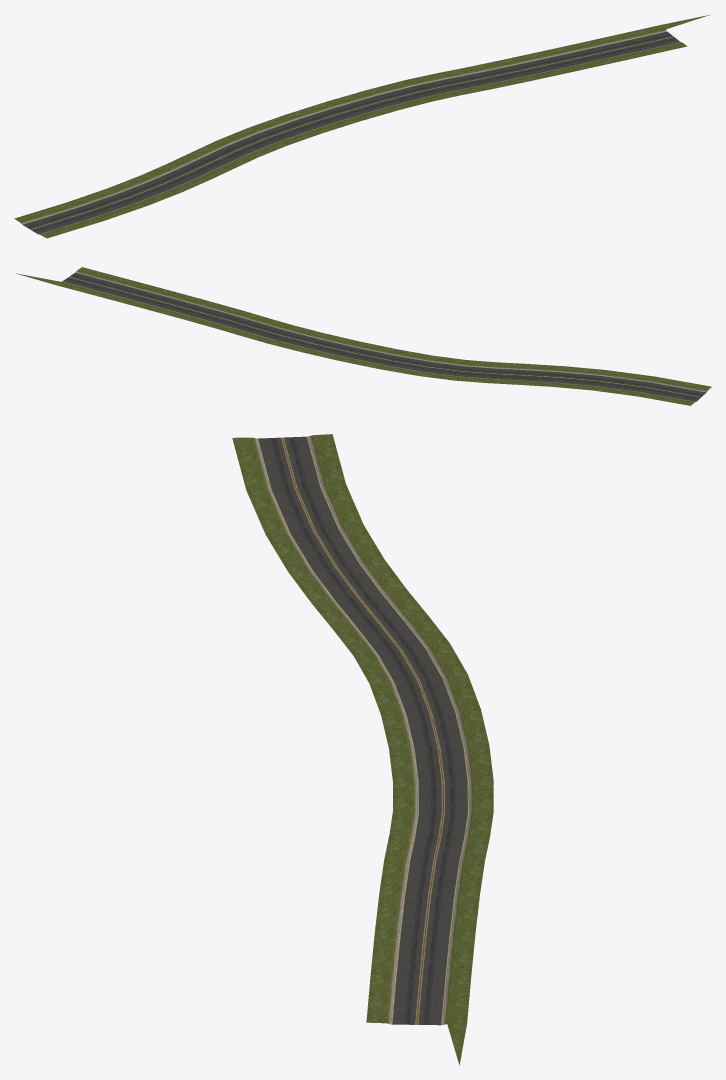
Rendered from cunte_roads32.obj.
3 views of the same model, one above another, from view 1: azimuth 30°, elevation 25°; view 2: azimuth 150°, elevation 25°; view 3: azimuth 270°, elevation 25° (orthographic). The views are drawn at different scales.
Parts seen in each view (by area): view 1: cunte_roads32; view 2: cunte_roads32; view 3: cunte_roads32.
Boxes of the visible parts, x1,y1,x2,y2 form: cunte_roads32: (14, 14, 710, 238); cunte_roads32: (16, 267, 711, 405); cunte_roads32: (232, 434, 493, 1065).
Bounding box in the file's own units: 296 × 2.02 × 51.92.
Materials: 3 (3 with a texture image).
